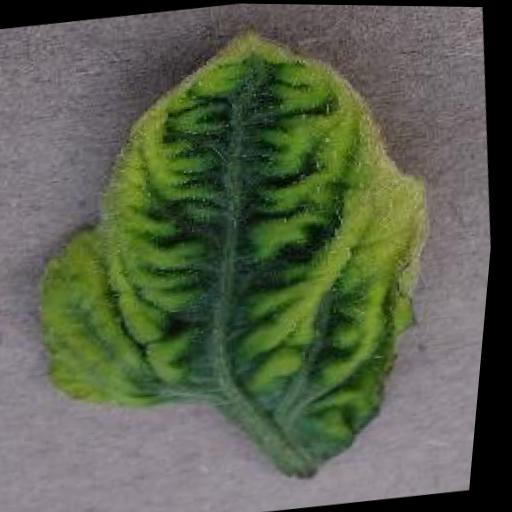Yellow Leaf Curl Virus: (0, 5, 481, 509)
